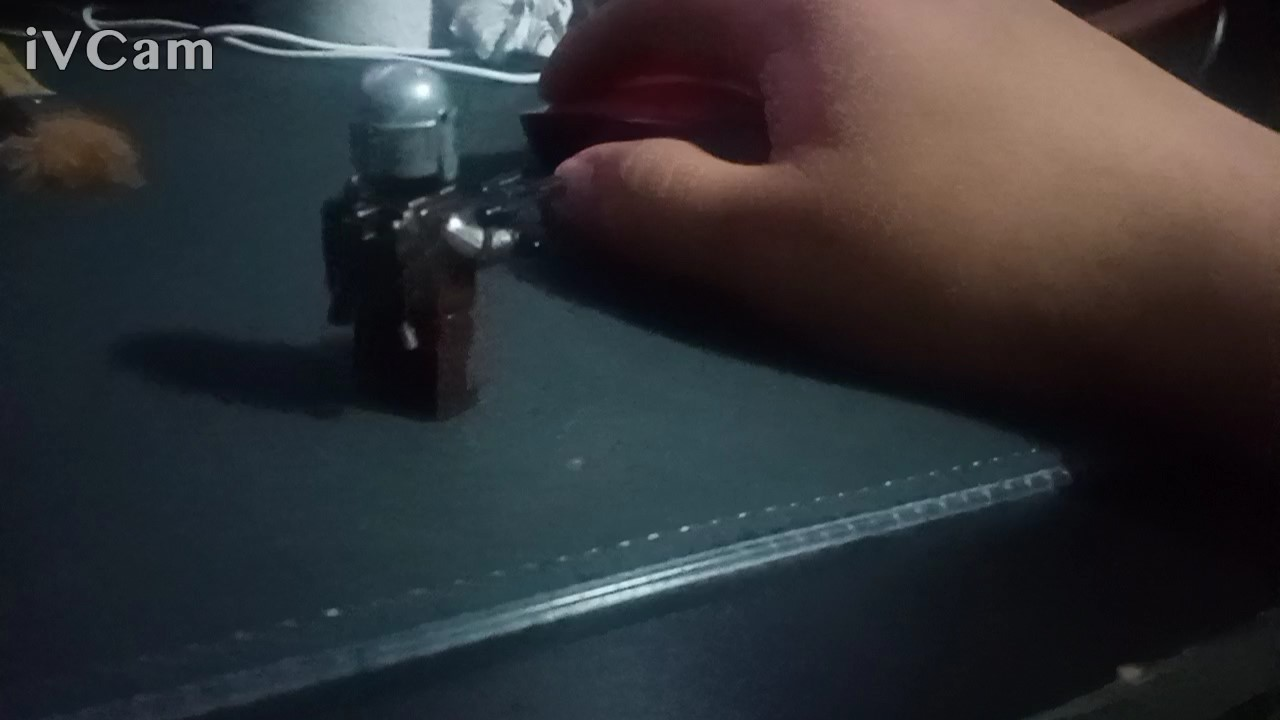mandalorian: (317, 56, 537, 431)
